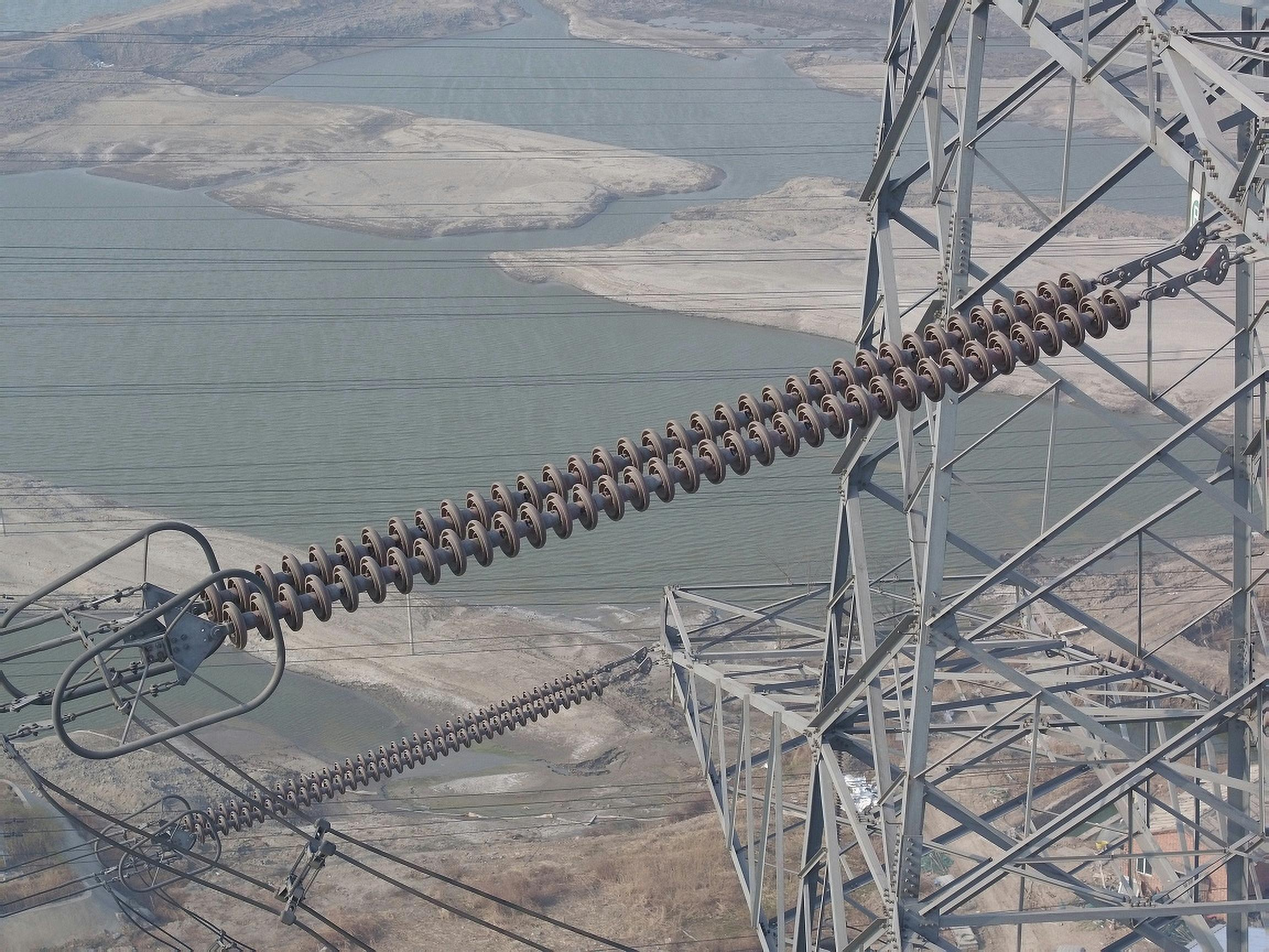insulator: (196, 267, 1136, 655), (180, 667, 604, 848)
